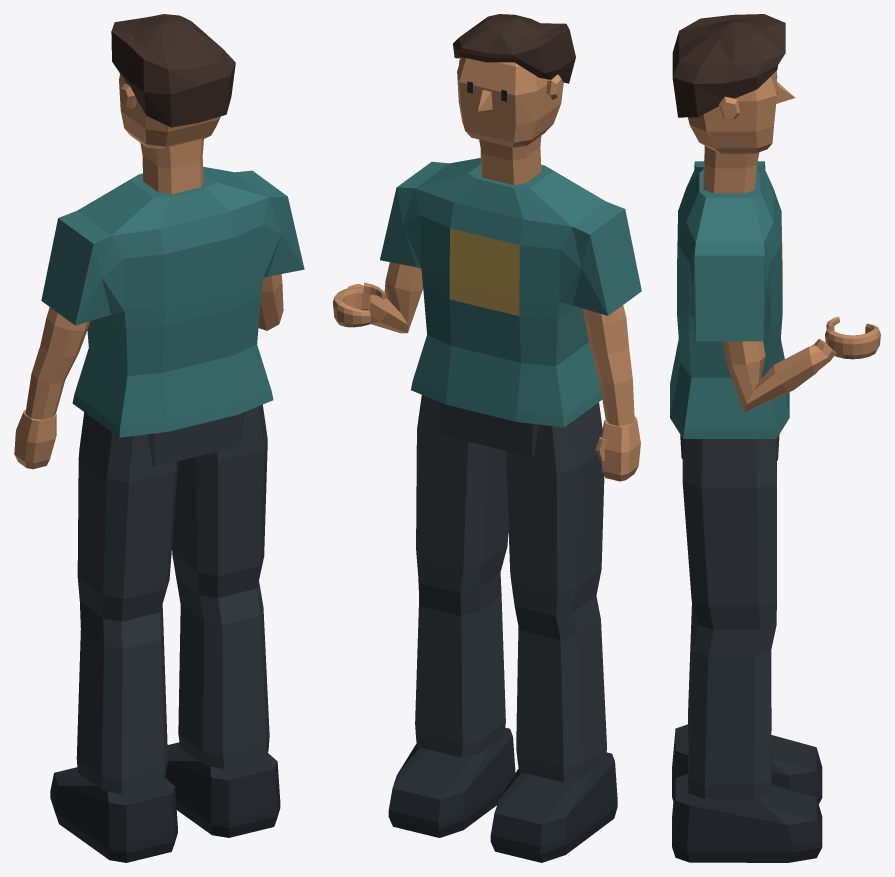
The model's file is lwf_attendee_male_drink_hold_v1.glb.
The picture shows the model from 3 angles, left to right: view 1: azimuth 30°, elevation 25°; view 2: azimuth 150°, elevation 25°; view 3: azimuth 270°, elevation 25°; orthographic projection.
Parts seen in each view (by area): view 1: Attendee_male_drink_hold; view 2: Attendee_male_drink_hold; view 3: Attendee_male_drink_hold.
Boxes of the visible parts, x1,y1,x2,y2 form: Attendee_male_drink_hold: (14,14,304,862); Attendee_male_drink_hold: (333,14,641,862); Attendee_male_drink_hold: (670,14,880,862).
Size of the model in its own units: 0.601 by 1.75 by 0.4199.
1 material, 1 textured.
